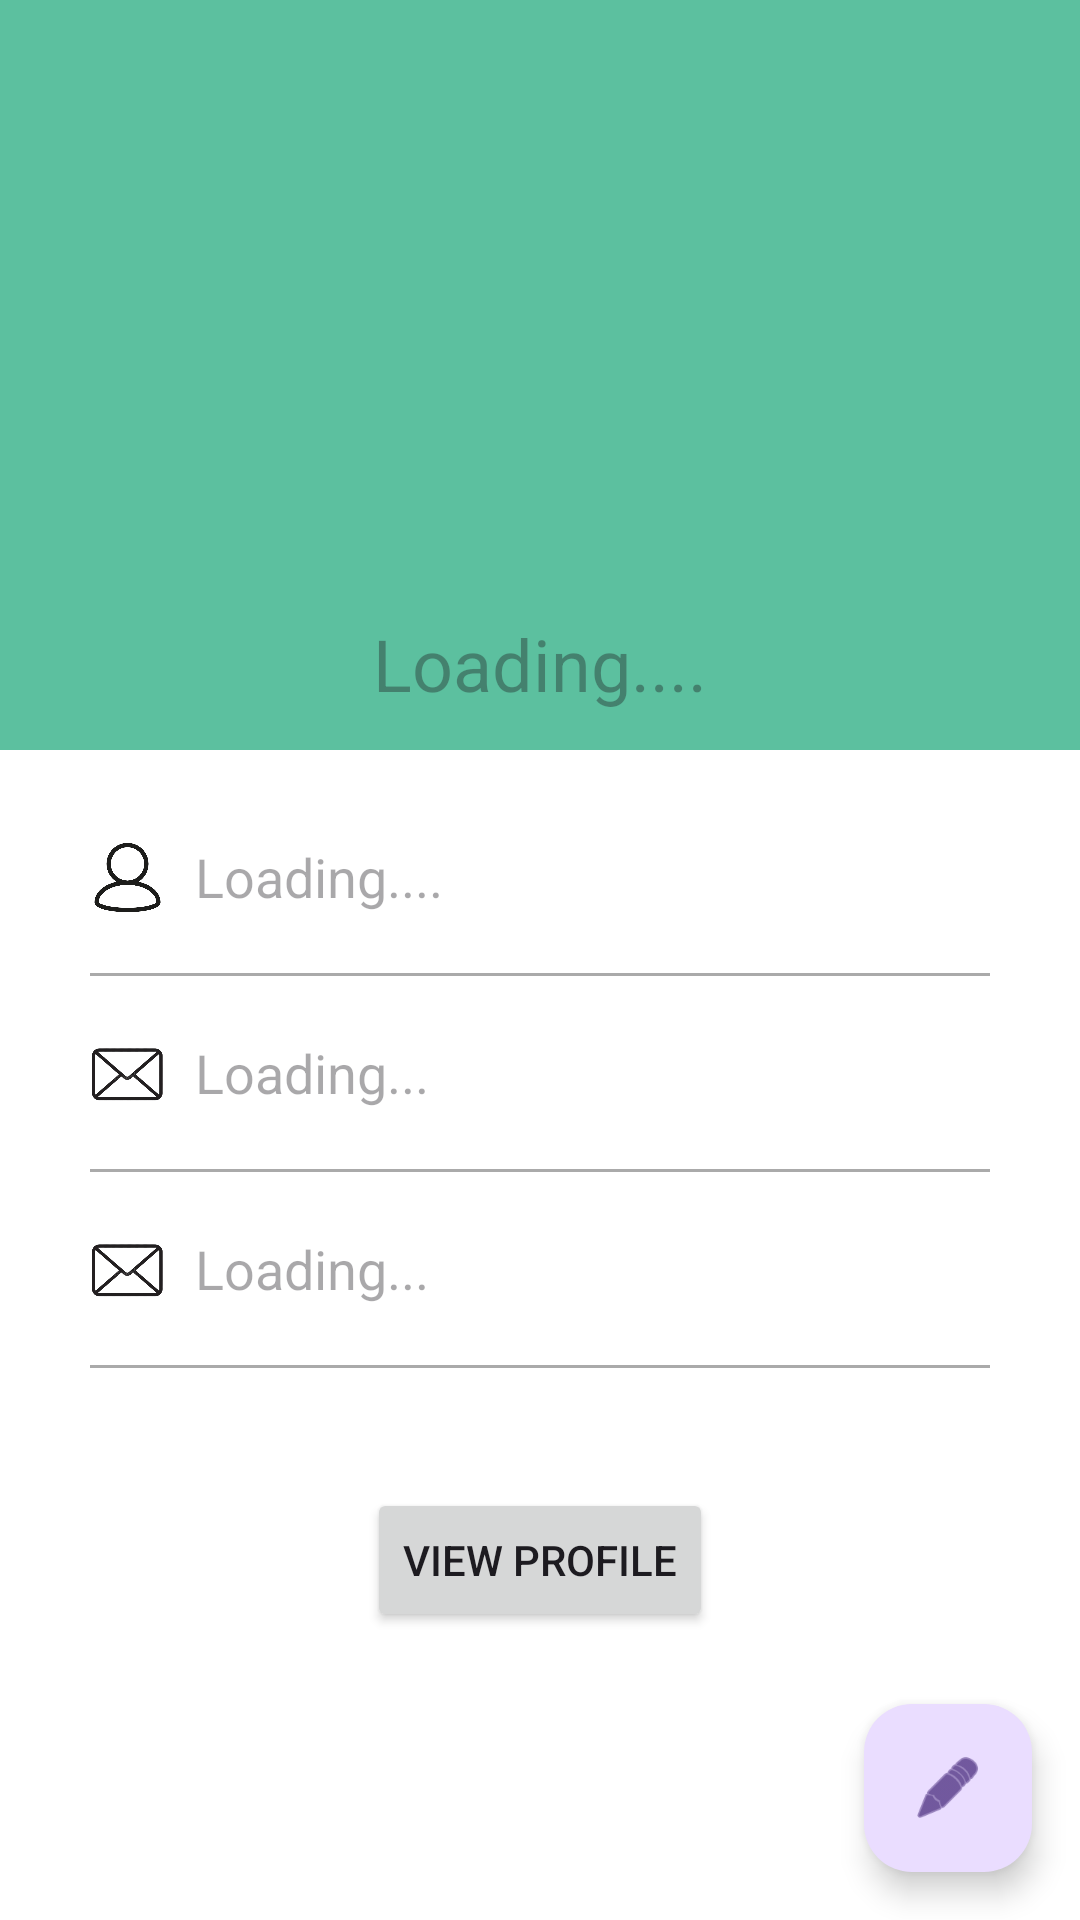

Named icons in this screenshot (1080px×1920px) and their bounding boxes, (x1, y1, x2, y2):
Edit Profile: (864, 1704, 1032, 1872)
email: (92, 1048, 163, 1100), (92, 1244, 163, 1296)
profile: (94, 843, 161, 912)
